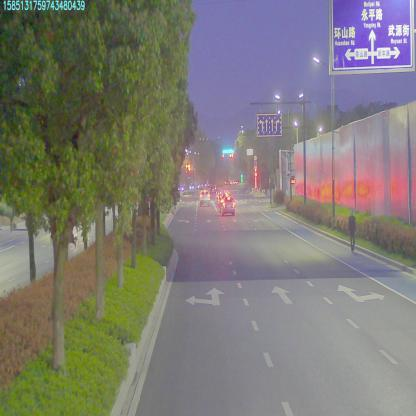traffic-light: (222, 147, 235, 153), (221, 152, 224, 158), (229, 153, 234, 156)
